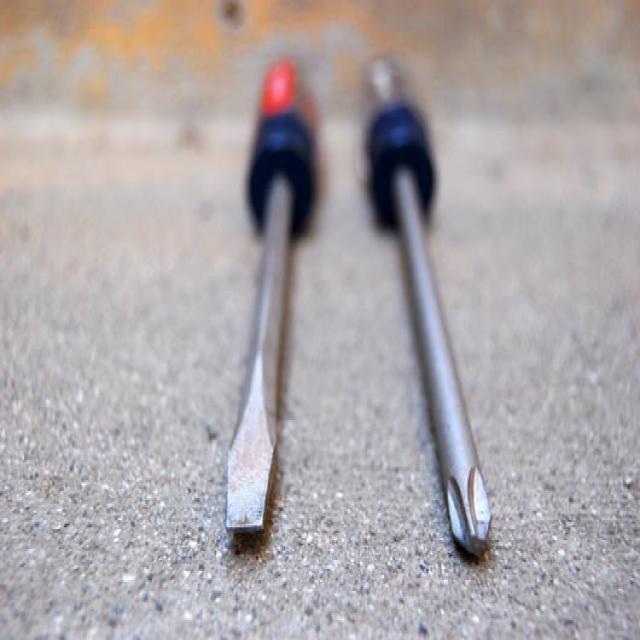screwdriver: (341, 26, 509, 575), (200, 48, 330, 548)
